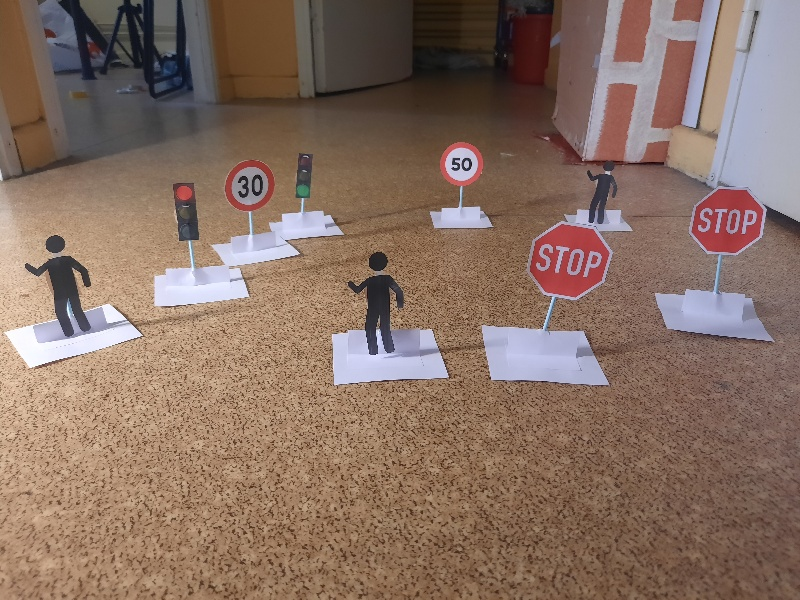Green: (293, 151, 314, 201)
Limit 30: (224, 160, 271, 208)
Limit 50: (443, 141, 480, 184)
Person: (27, 232, 94, 335), (347, 251, 402, 355), (585, 159, 619, 222)
Red: (172, 183, 201, 238)
Stop: (528, 223, 609, 299), (692, 186, 766, 255)
